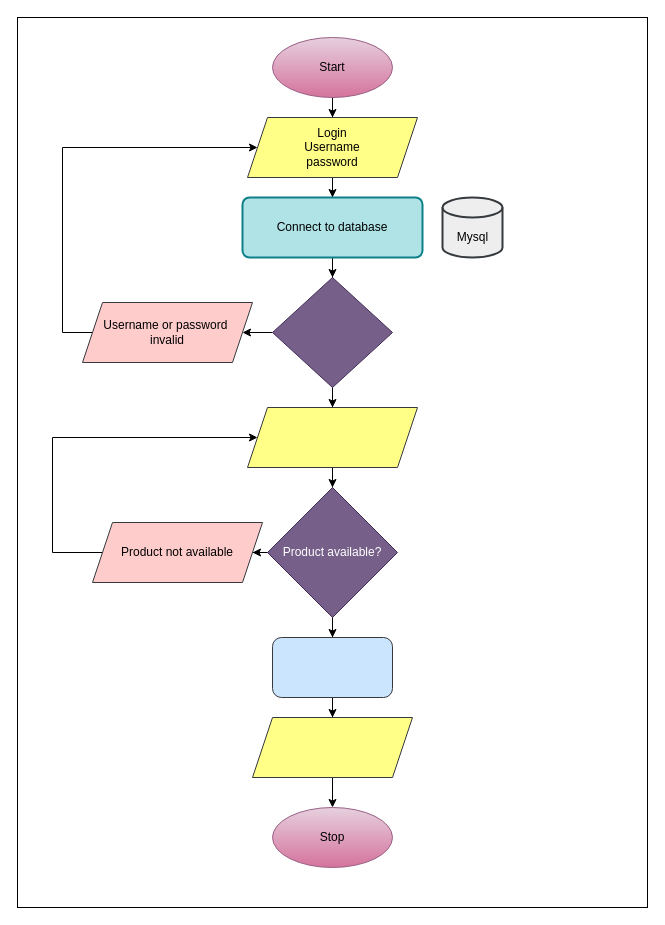
Image size: 665x925. Some labels were removed from this diagram. The shapes that lost their labels are listed below. From the top down, each one's box as (x1, y1, x2, y2) in pixels, then its label:
(272, 276, 392, 388): user validated
(246, 406, 418, 468): Select Product
(272, 636, 392, 698): Order
(252, 716, 412, 778): Print Order
